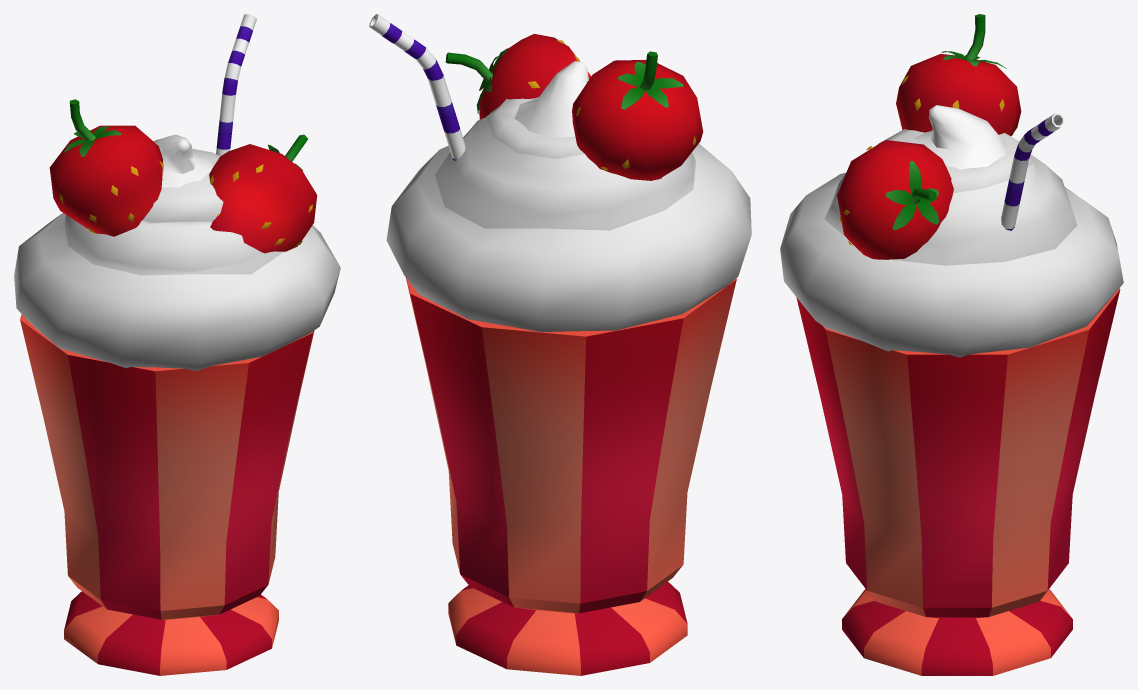
The model's file is Product Strawberry Milkshake.fbx.
3 views of the same model, side by side, from view 1: azimuth 30°, elevation 25°; view 2: azimuth 150°, elevation 25°; view 3: azimuth 270°, elevation 25° (orthographic). The views are drawn at different scales.
Parts seen in each view (by area): view 1: Product_Strawberry_Milkshake; view 2: Product_Strawberry_Milkshake; view 3: Product_Strawberry_Milkshake.
Part boxes in pixels (x1,y1,x2,y2): Product_Strawberry_Milkshake: [14, 14, 340, 675]; Product_Strawberry_Milkshake: [369, 14, 751, 675]; Product_Strawberry_Milkshake: [780, 14, 1123, 675].
Size of the model in its own units: 88.35 by 168 by 90.17.
